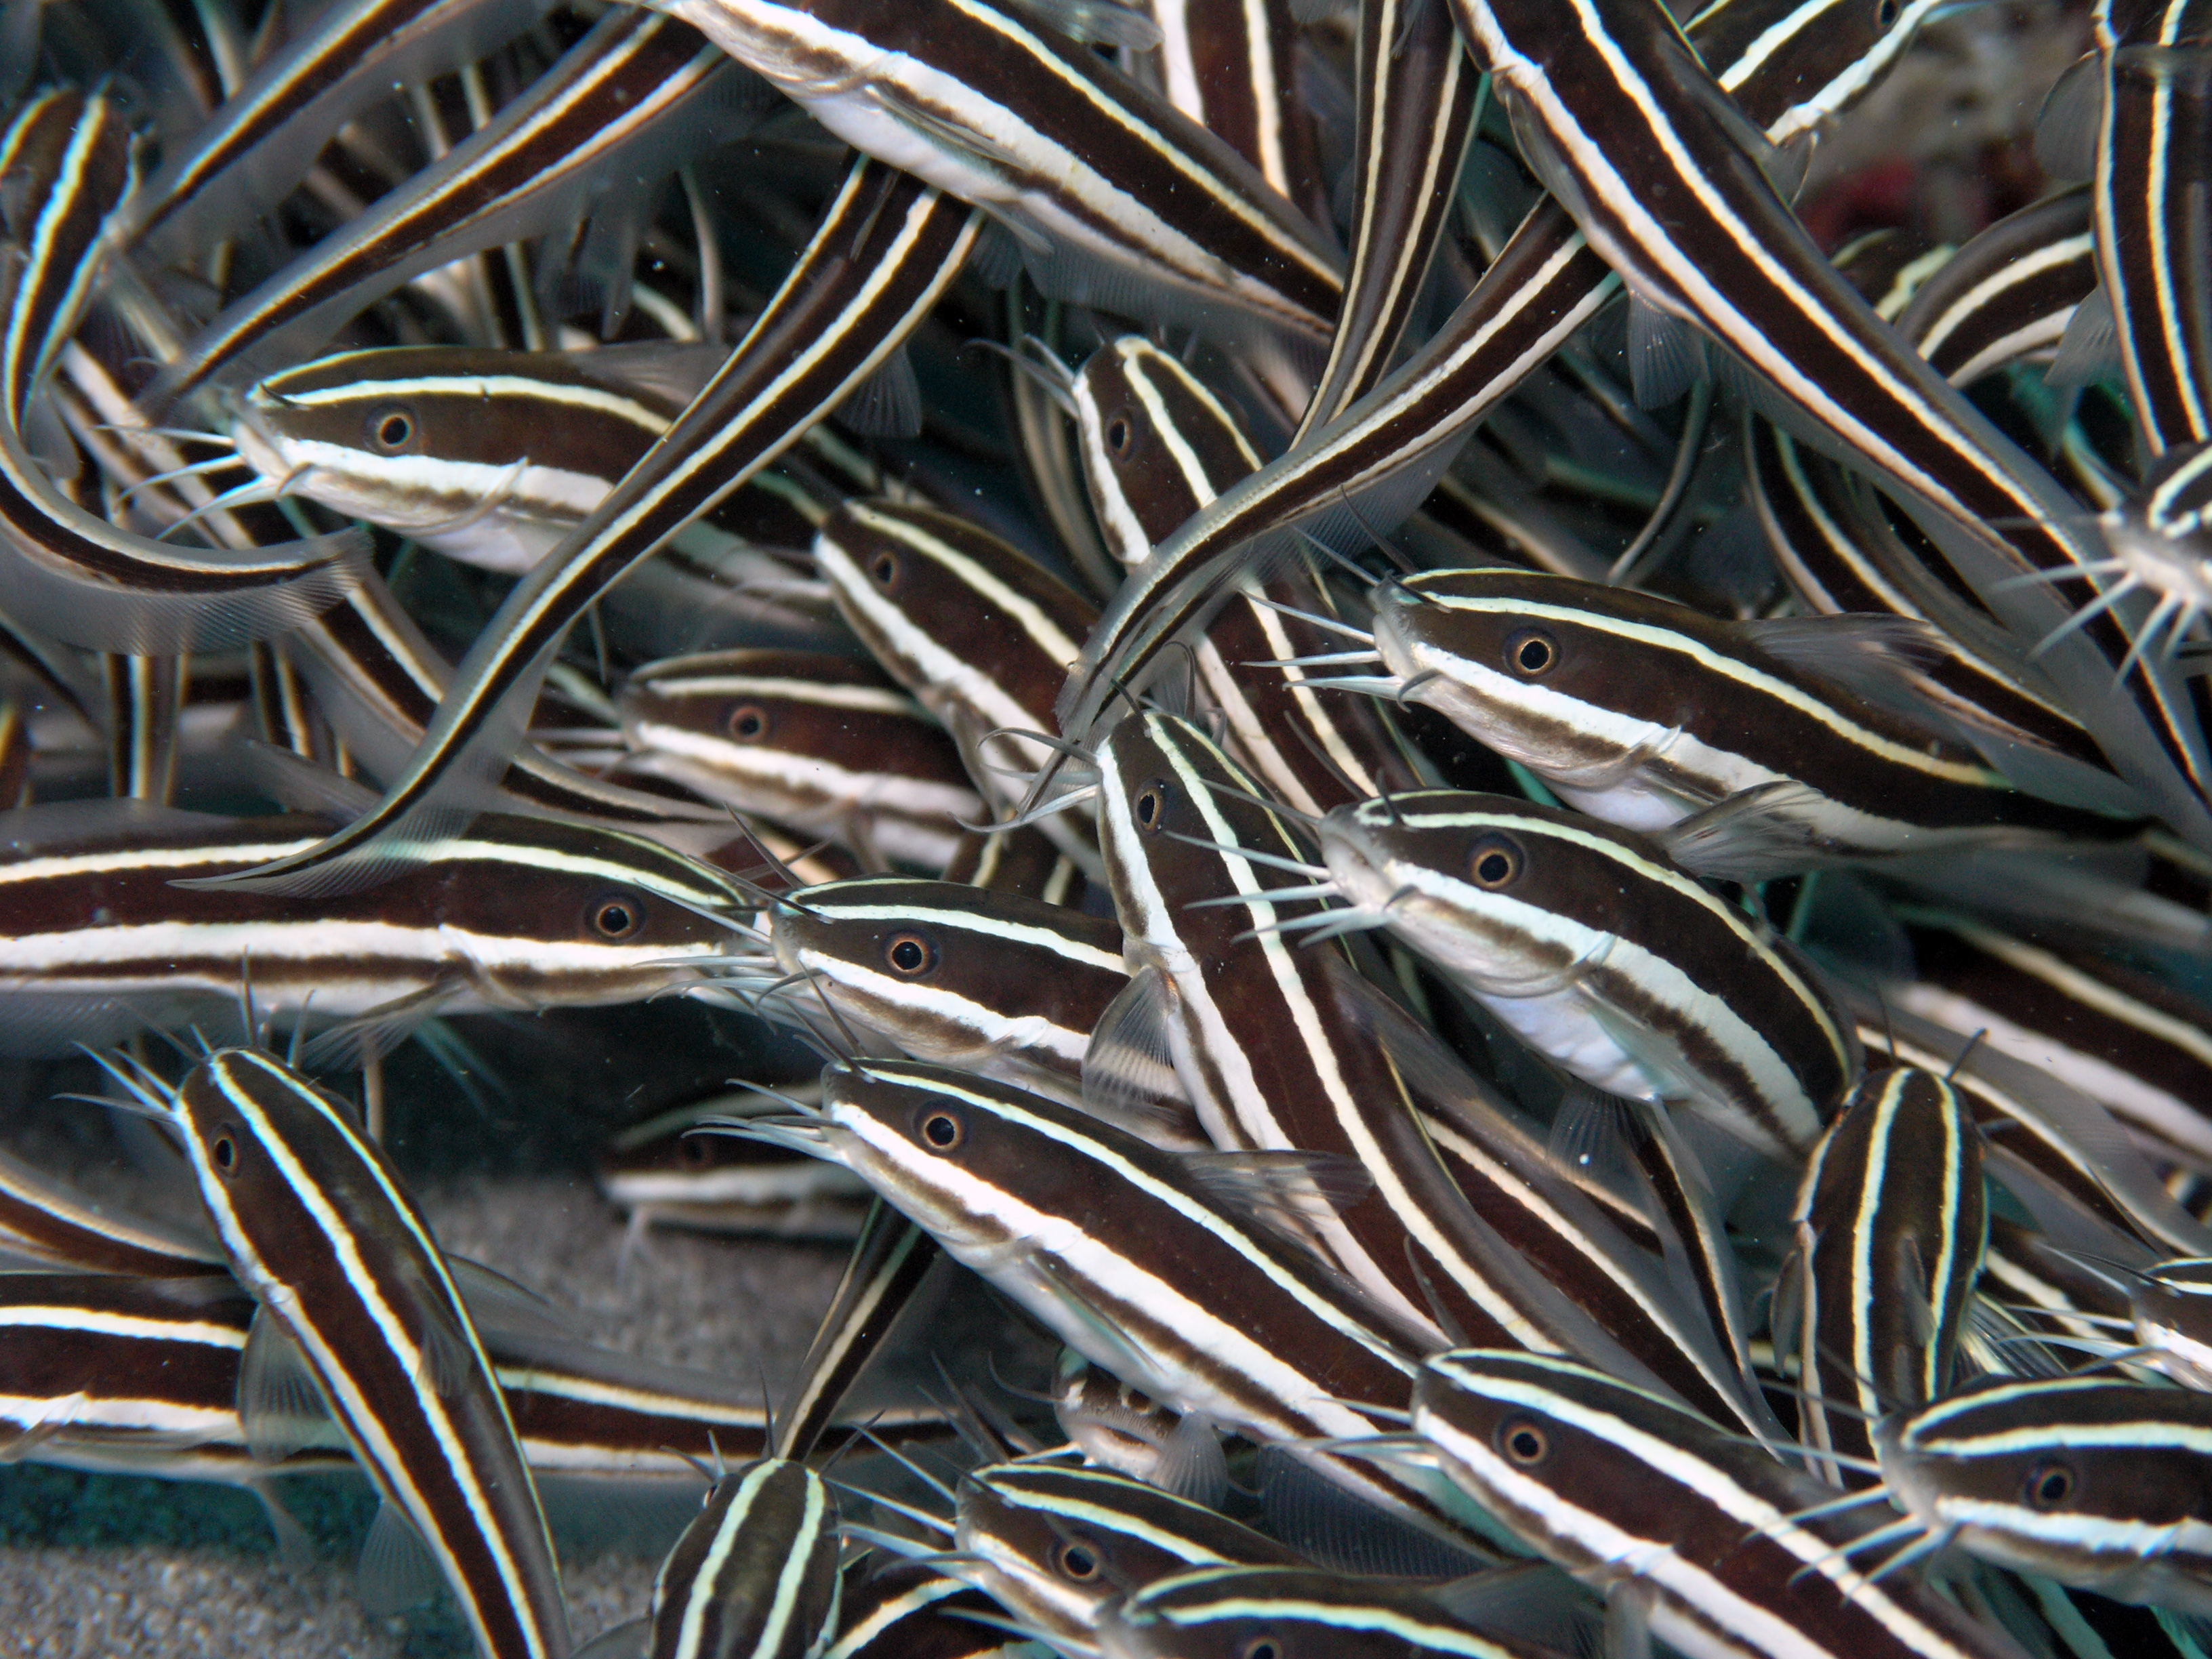gonzui: (24, 796, 799, 1032), (223, 279, 836, 566)
